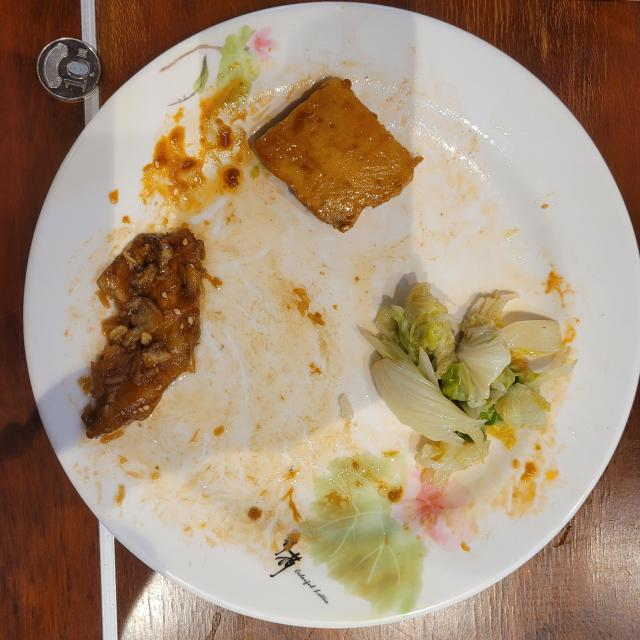Kabayaki sea bream fillet: (82, 230, 205, 438)
cabbage: (362, 282, 575, 480)
coin: (36, 38, 100, 101)
creamy tofu: (254, 78, 422, 231)
